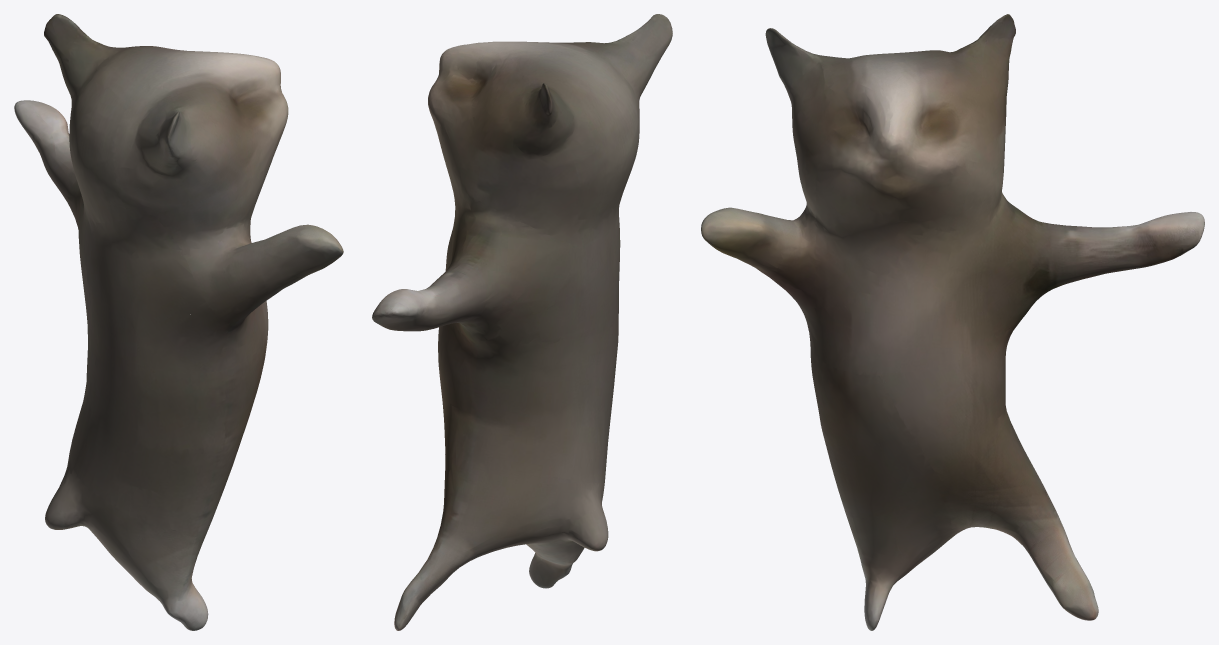
Rendered from happy-cat.glb.
3 renders of one model, left to right at view 1: azimuth 30°, elevation 25°; view 2: azimuth 150°, elevation 25°; view 3: azimuth 270°, elevation 25°, orthographic. The views are drawn at different scales.
Parts seen in each view (by area): view 1: happy-cat; view 2: happy-cat; view 3: happy-cat.
Boxes of the visible parts, x1,y1,x2,y2 form: happy-cat: [14, 14, 343, 630]; happy-cat: [372, 14, 672, 630]; happy-cat: [701, 14, 1204, 630].
Bounding box in the file's own units: 0.6646 × 1.85 × 1.45.
1 material, 1 textured.
